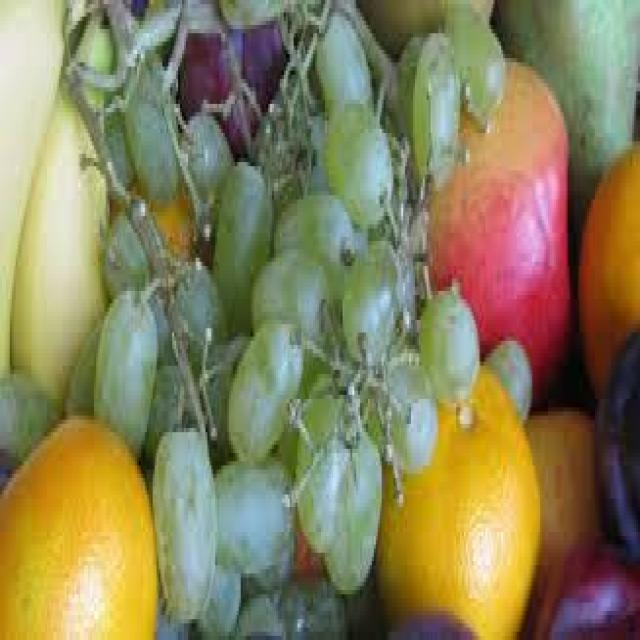organic waste: (0, 0, 638, 636), (421, 54, 571, 403), (378, 362, 538, 632), (10, 0, 110, 403), (0, 407, 153, 636), (491, 0, 638, 199), (149, 0, 307, 154), (0, 0, 61, 366), (573, 141, 638, 395), (523, 407, 597, 615), (151, 420, 213, 615), (527, 528, 638, 636), (211, 154, 274, 332), (593, 316, 638, 561), (323, 411, 382, 586), (225, 304, 300, 441), (96, 283, 155, 457), (296, 370, 350, 557), (118, 29, 178, 191), (211, 457, 290, 574), (248, 241, 328, 353), (268, 191, 354, 295), (323, 88, 389, 220), (339, 232, 403, 366), (198, 324, 258, 466), (370, 341, 434, 465), (411, 29, 458, 191), (415, 283, 476, 407), (106, 195, 172, 308), (356, 0, 493, 54), (438, 0, 498, 116), (313, 5, 372, 116), (172, 254, 233, 349), (282, 353, 333, 457), (145, 353, 198, 449), (0, 370, 55, 457), (184, 104, 231, 195), (190, 553, 239, 636), (282, 573, 342, 636), (66, 304, 98, 412), (374, 602, 474, 636), (486, 336, 528, 412), (395, 29, 419, 162), (151, 278, 182, 354), (235, 590, 280, 636), (342, 573, 374, 636), (247, 536, 286, 586), (155, 582, 186, 636), (215, 88, 245, 142), (186, 196, 213, 246)
